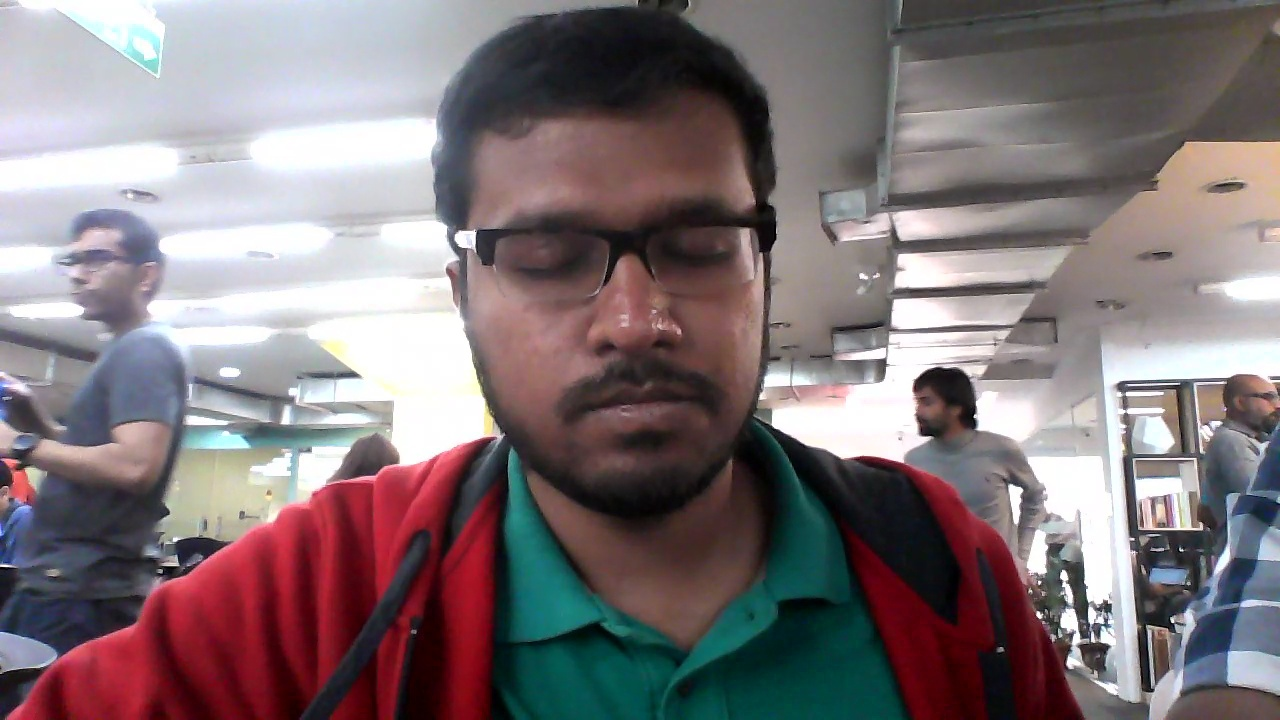closed: (433, 5, 792, 494)
